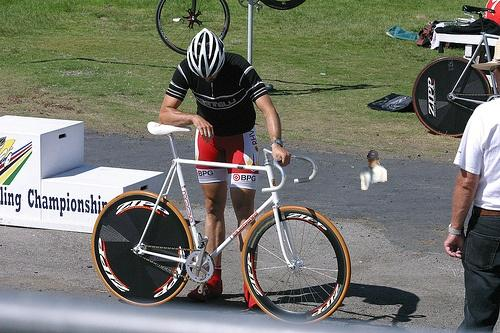tampered: (361, 151, 387, 190)
